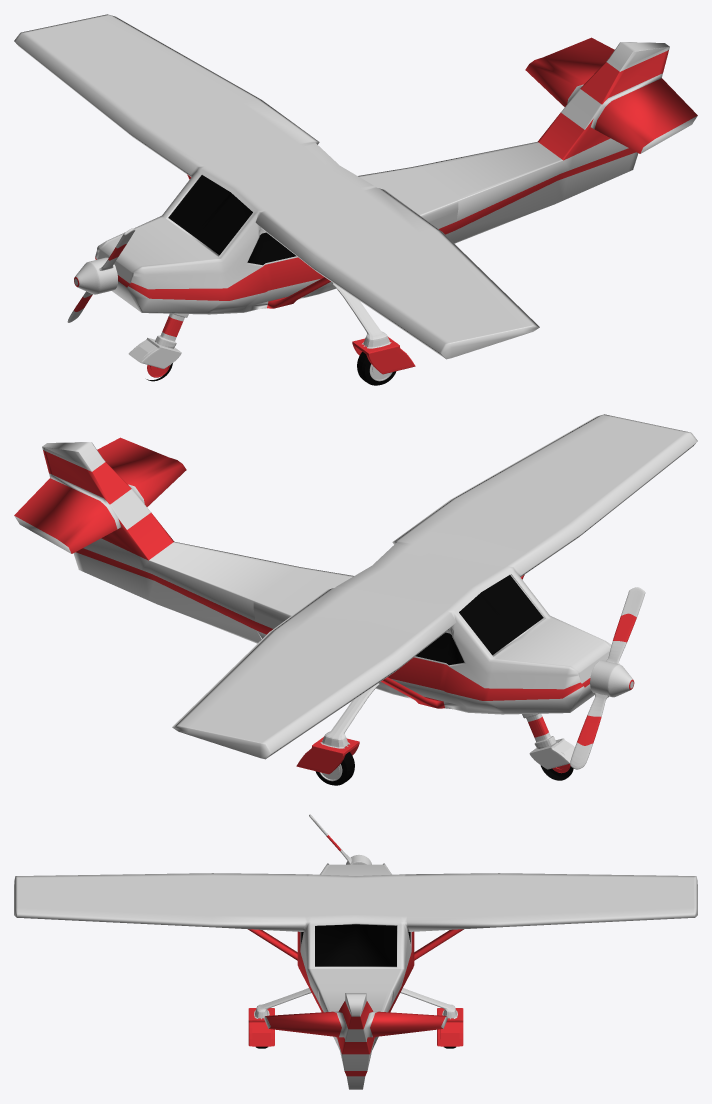
File: PolyPlane.glb
The picture shows the model from 3 angles, top to bottom: view 1: azimuth 30°, elevation 25°; view 2: azimuth 150°, elevation 25°; view 3: azimuth 270°, elevation 25°; orthographic projection. The views are drawn at different scales.
Visible parts, largest first — view 1: Plane.002; view 2: Plane.002; view 3: Plane.002.
Part boxes in pixels (x1,y1,x2,y2): Plane.002: (14, 14, 697, 385); Plane.002: (14, 414, 697, 785); Plane.002: (14, 814, 697, 1089).
Bounding box in the file's own units: 8.74 × 3.09 × 11.
